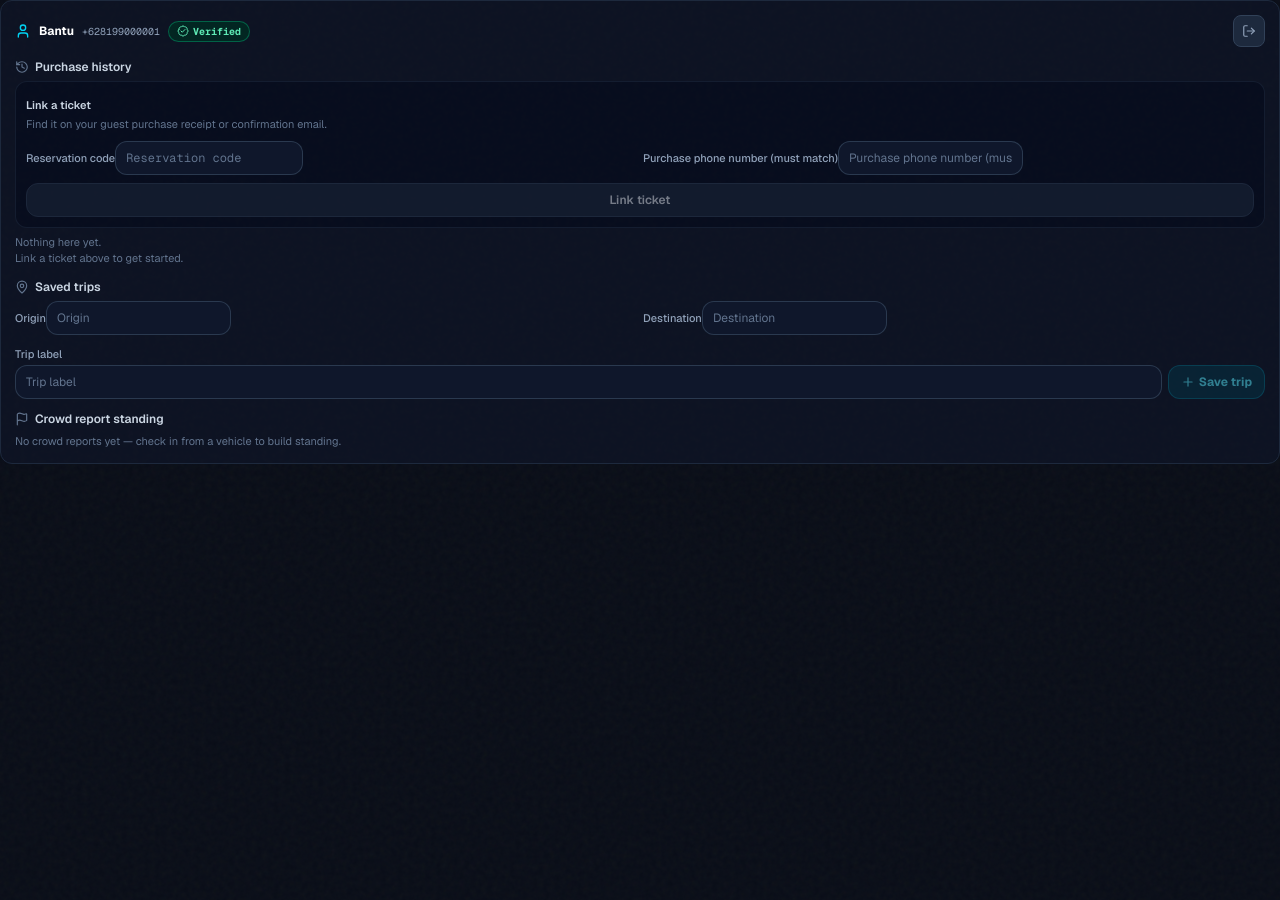
it: link help and minors › confirms logout out loud
This screenshot has width=1280, height=900.
Check: the text "Purchase history" is shown, box [15,59,132,75]
Click the button named "Sign out": [1249, 31] box [1233,15,1265,47]
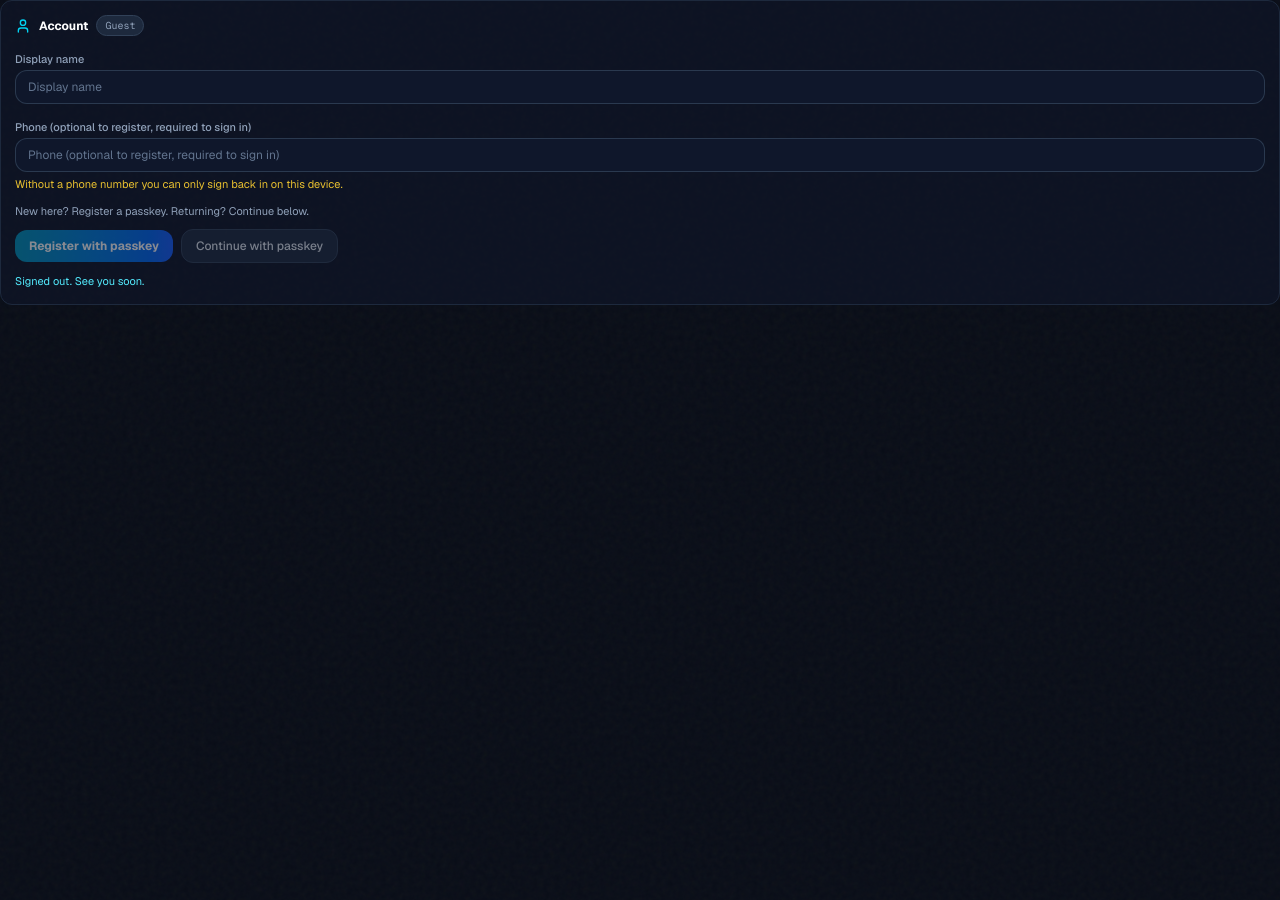
Check: the text "Signed out. See you soon." is shown, box [15,274,144,288]
